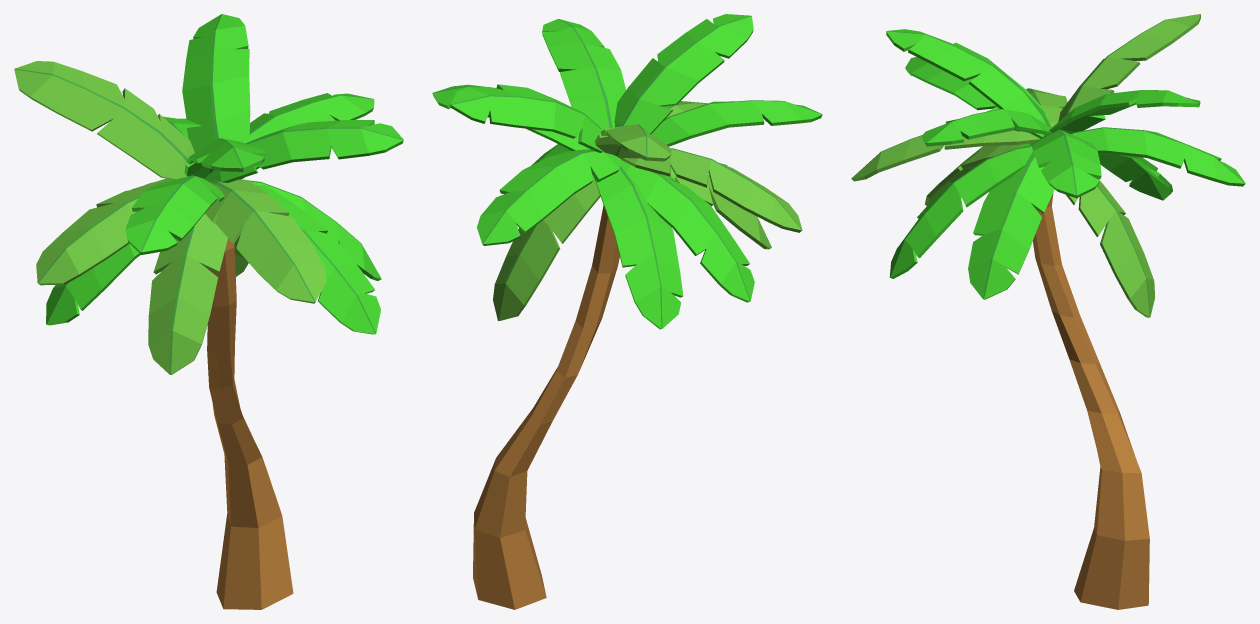
File: low_poly_coconut_2.glb
3 renders of one model, left to right at view 1: azimuth 30°, elevation 25°; view 2: azimuth 150°, elevation 25°; view 3: azimuth 270°, elevation 25°, orthographic. The views are drawn at different scales.
Parts seen in each view (by area): view 1: Trunk_0, Coconut Leaves.009_9, Coconut Leaves.012_12, Coconut Leaves.003_3, Coconut Leaves.013_13, Coconut Leaves.011_11, Coconut Leaves.006_6, Coconut Leaves.014_14, Coconut Leaves.001_1, Coconut Leaves.002_2, Coconut Leaves.010_10, Coconut Leaves.005_5 (+1 smaller); view 2: Trunk_0, Coconut Leaves.007_7, Coconut Leaves.005_5, Coconut Leaves.004_4, Coconut Leaves.010_10, Coconut Leaves.011_11, Coconut Leaves_15, Coconut Leaves.013_13, Coconut Leaves.006_6, Coconut Leaves.001_1, Coconut Leaves.009_9, Coconut Leaves.012_12 (+1 smaller); view 3: Trunk_0, Coconut Leaves.008_8, Coconut Leaves.014_14, Coconut Leaves.005_5, Coconut Leaves_15, Coconut Leaves.004_4, Coconut Leaves.009_9, Coconut Leaves.002_2, Coconut Leaves.013_13, Coconut Leaves.011_11, Coconut Leaves.003_3, Coconut Leaves.007_7 (+3 smaller).
Boxes of the visible parts, left/top/right/bottom form: Trunk_0: left=207, top=238, right=293, bottom=609; Coconut Leaves.009_9: left=14, top=61, right=194, bottom=179; Coconut Leaves.012_12: left=148, top=213, right=227, bottom=374; Coconut Leaves.003_3: left=205, top=179, right=326, bottom=303; Coconut Leaves.013_13: left=182, top=14, right=250, bottom=152; Coconut Leaves.011_11: left=205, top=120, right=403, bottom=182; Coconut Leaves.006_6: left=36, top=178, right=172, bottom=285; Coconut Leaves.014_14: left=256, top=185, right=380, bottom=334; Coconut Leaves.001_1: left=125, top=175, right=224, bottom=254; Coconut Leaves.002_2: left=239, top=93, right=374, bottom=179; Coconut Leaves.010_10: left=46, top=243, right=140, bottom=325; Coconut Leaves.005_5: left=184, top=138, right=265, bottom=178; Trunk_0: left=473, top=205, right=619, bottom=609; Coconut Leaves.007_7: left=594, top=164, right=683, bottom=329; Coconut Leaves.005_5: left=614, top=14, right=753, bottom=134; Coconut Leaves.004_4: left=477, top=149, right=621, bottom=245; Coconut Leaves.010_10: left=620, top=160, right=754, bottom=302; Coconut Leaves.011_11: left=542, top=19, right=625, bottom=130; Coconut Leaves_15: left=493, top=175, right=600, bottom=320; Coconut Leaves.013_13: left=450, top=84, right=603, bottom=152; Coconut Leaves.006_6: left=621, top=148, right=802, bottom=232; Coconut Leaves.001_1: left=651, top=100, right=822, bottom=146; Coconut Leaves.009_9: left=595, top=124, right=671, bottom=161; Coconut Leaves.012_12: left=670, top=167, right=771, bottom=249; Trunk_0: left=1033, top=193, right=1149, bottom=609; Coconut Leaves.008_8: left=968, top=143, right=1054, bottom=299; Coconut Leaves.014_14: left=889, top=145, right=1032, bottom=278; Coconut Leaves.005_5: left=886, top=29, right=1051, bottom=138; Coconut Leaves_15: left=1066, top=179, right=1155, bottom=317; Coconut Leaves.004_4: left=1071, top=127, right=1245, bottom=186; Coconut Leaves.009_9: left=1058, top=14, right=1200, bottom=121; Coconut Leaves.002_2: left=1030, top=130, right=1101, bottom=198; Coconut Leaves.013_13: left=1042, top=90, right=1200, bottom=138; Coconut Leaves.011_11: left=921, top=109, right=1052, bottom=146; Coconut Leaves.003_3: left=851, top=130, right=1040, bottom=181; Coconut Leaves.007_7: left=1098, top=153, right=1172, bottom=200.
Size of the model in its own units: 2.64 by 3.85 by 2.67.
